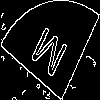M: (25, 25, 70, 87)
